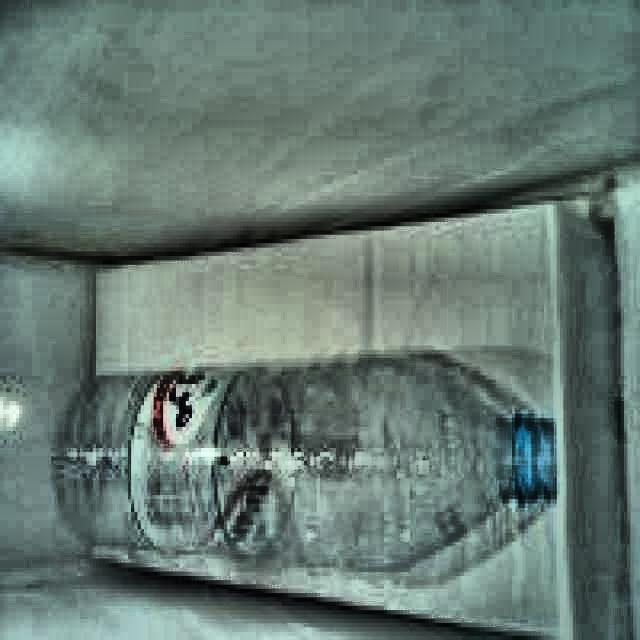plastic bottle: (51, 354, 559, 570)
